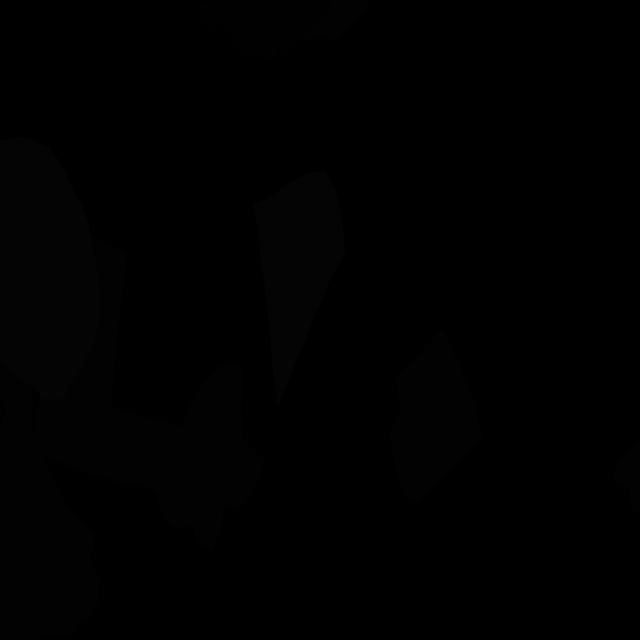cardboard: (35, 237, 182, 494), (0, 361, 100, 640), (158, 364, 264, 528), (388, 332, 482, 503), (300, 0, 372, 43), (612, 439, 640, 515), (193, 508, 224, 551)
rigid_plastic: (196, 0, 330, 60)
soft_plastic: (0, 137, 100, 400), (253, 171, 346, 406)
